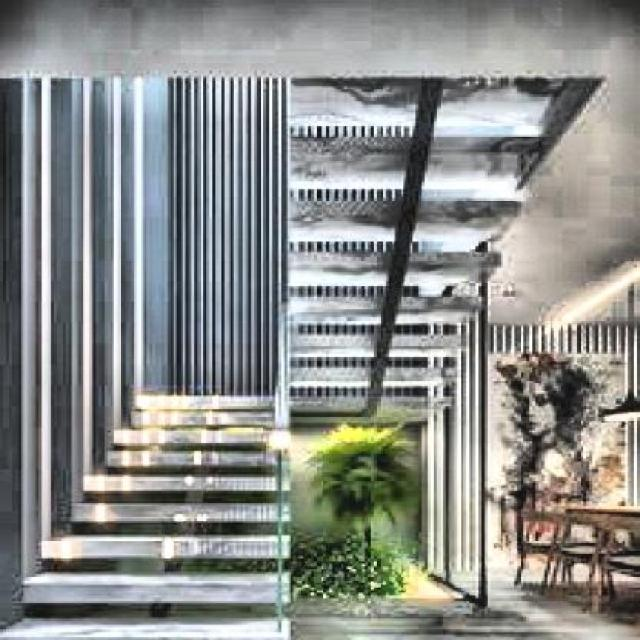stair: (43, 378, 297, 638)
